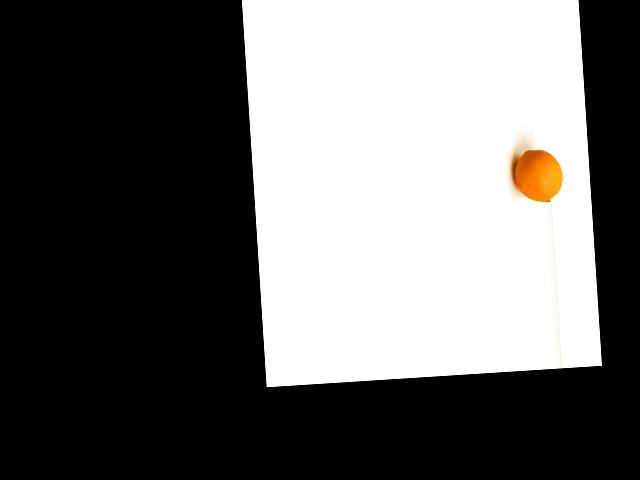lemon: (505, 141, 565, 205)
